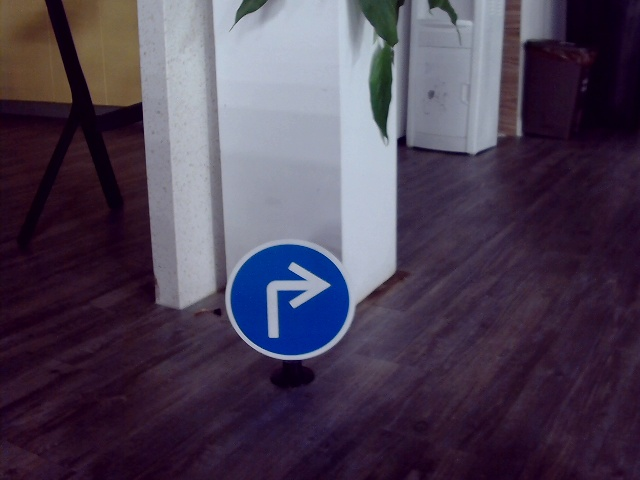turn_right: (256, 261, 330, 337)
